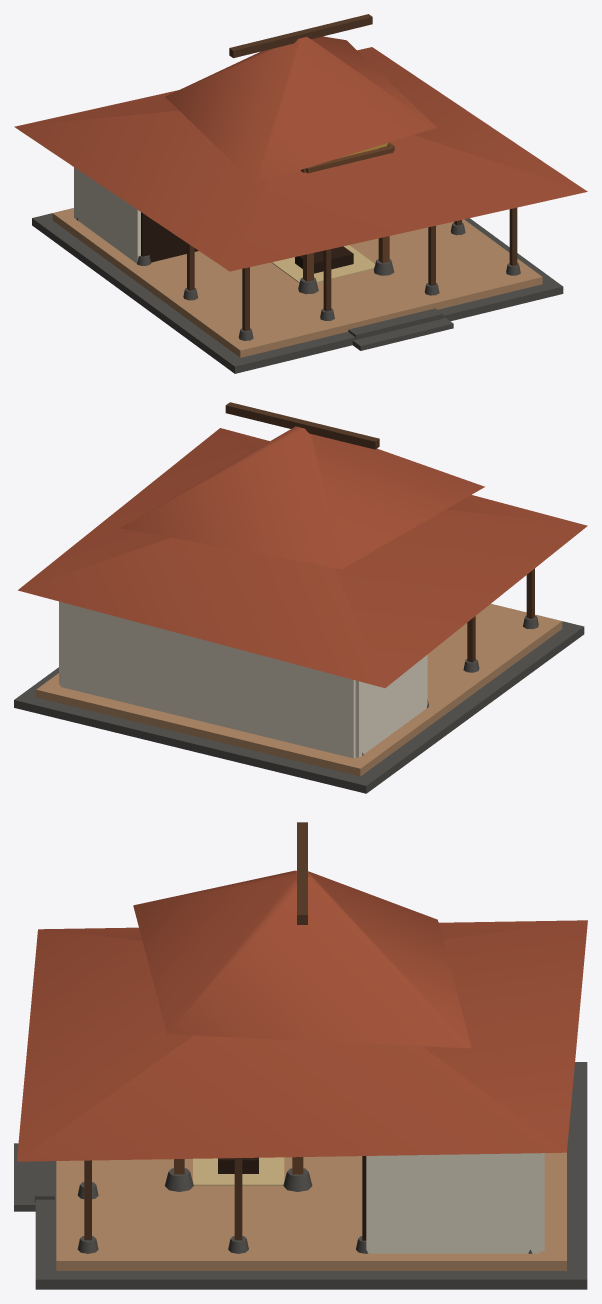
The model's file is rumah-limasan.glb.
The picture shows the model from 3 angles, top to bottom: view 1: azimuth 30°, elevation 25°; view 2: azimuth 150°, elevation 25°; view 3: azimuth 270°, elevation 25°; orthographic projection. The views are drawn at different scales.
Visible parts, largest first — view 1: ROOF_PENANGGAP, FLOOR_SYSTEM, ROOF_BRUNJUNG, WALL_SYSTEM, SOKO_GURU, UMPAK, PENDOPO_TIKAR, TUMPANG_SARI, PENDOPO_LOW_TABLE; view 2: ROOF_PENANGGAP, ROOF_BRUNJUNG, WALL_SYSTEM, FLOOR_SYSTEM, SOKO_GURU; view 3: ROOF_PENANGGAP, FLOOR_SYSTEM, ROOF_BRUNJUNG, WALL_SYSTEM, UMPAK, PENDOPO_TIKAR, SOKO_GURU.
Boxes of the visible parts, x1,y1,x2,y2 form: ROOF_PENANGGAP: (14, 47, 587, 271); FLOOR_SYSTEM: (32, 208, 563, 373); ROOF_BRUNJUNG: (165, 14, 436, 183); WALL_SYSTEM: (74, 167, 198, 263); SOKO_GURU: (187, 143, 517, 331); UMPAK: (76, 217, 520, 340); PENDOPO_TIKAR: (271, 245, 375, 282); TUMPANG_SARI: (300, 142, 394, 173); PENDOPO_LOW_TABLE: (295, 246, 353, 273); ROOF_PENANGGAP: (18, 428, 587, 687); ROOF_BRUNJUNG: (120, 402, 484, 569); WALL_SYSTEM: (59, 601, 427, 758); FLOOR_SYSTEM: (14, 604, 584, 793); SOKO_GURU: (467, 568, 534, 662); ROOF_PENANGGAP: (17, 920, 587, 1161); FLOOR_SYSTEM: (14, 1062, 587, 1289); ROOF_BRUNJUNG: (133, 822, 471, 1048); WALL_SYSTEM: (362, 1153, 544, 1253); UMPAK: (77, 1168, 532, 1253); PENDOPO_TIKAR: (193, 1157, 284, 1185); SOKO_GURU: (84, 1157, 303, 1240).
Size of what is drawn, in the model's own units: 12.52 by 7.55 by 12.59.
